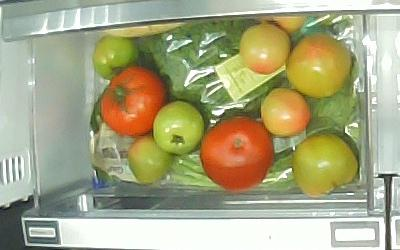tomato: (201, 116, 273, 190), (100, 67, 168, 138), (286, 33, 351, 98), (293, 133, 359, 197), (153, 101, 204, 155), (240, 24, 291, 75), (261, 87, 310, 136), (128, 133, 174, 185), (92, 35, 140, 79)
